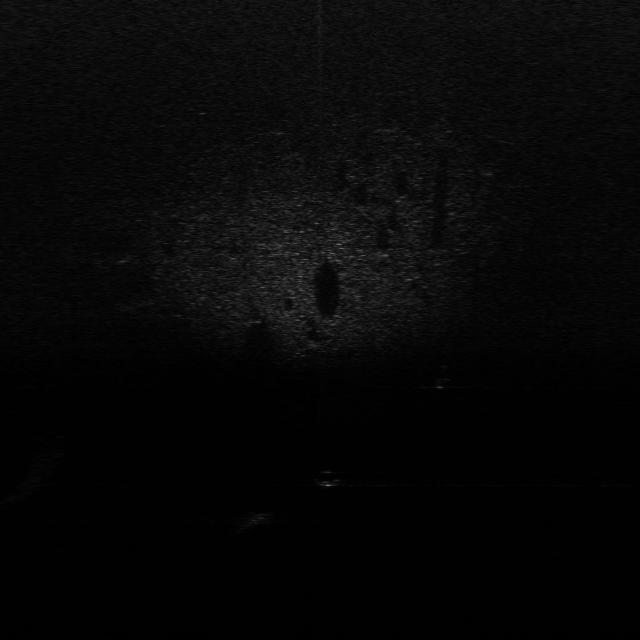ball: (312, 466, 342, 489)
square cage: (233, 508, 276, 528)
tyre: (428, 361, 458, 392)
